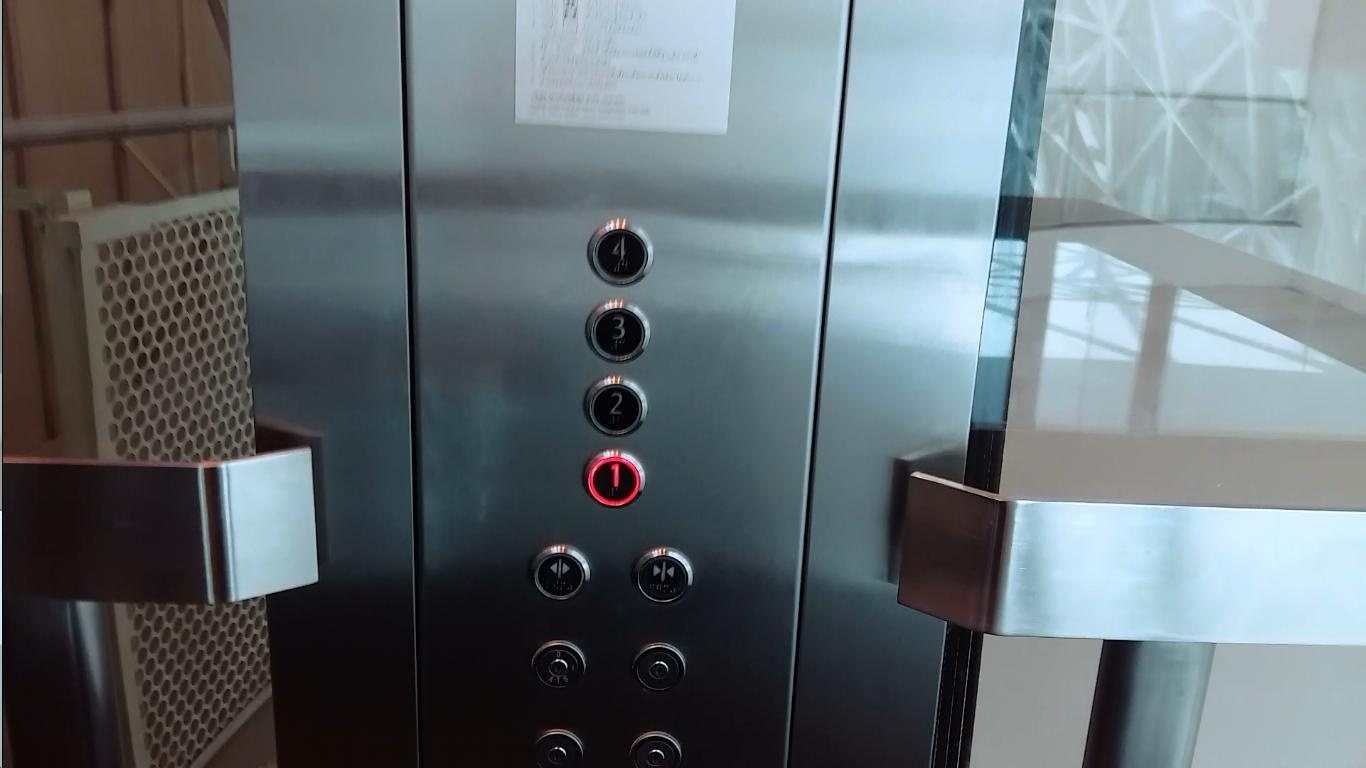1: (579, 447, 647, 510)
2: (579, 368, 651, 439)
3: (581, 295, 653, 366)
4: (586, 216, 657, 292)
close: (629, 544, 697, 607)
keyhole: (528, 635, 589, 696), (629, 638, 690, 699), (626, 729, 688, 768), (527, 729, 589, 768)
open: (527, 539, 595, 602)
